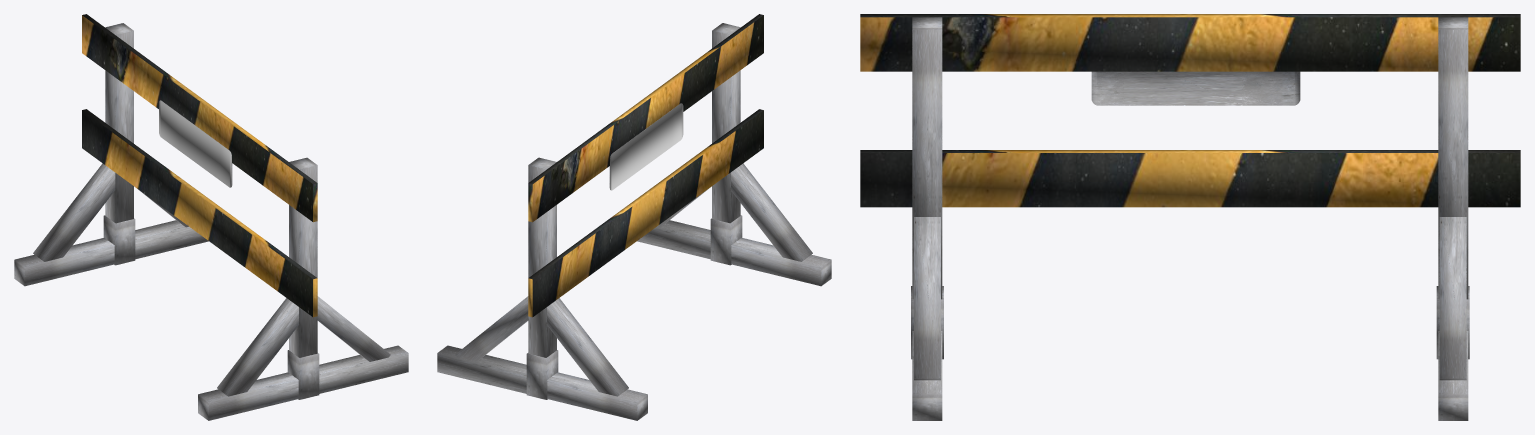
File: Wooden Barrier Left.fbx
3 views of the same model, side by side, from view 1: azimuth 30°, elevation 25°; view 2: azimuth 150°, elevation 25°; view 3: azimuth 270°, elevation 25° (orthographic). The views are drawn at different scales.
Visible parts, largest first — view 1: Wooden_Barrier; view 2: Wooden_Barrier; view 3: Wooden_Barrier.
Part boxes in pixels (box(x1,y1,x2,y2)): Wooden_Barrier: box(14, 14, 408, 420); Wooden_Barrier: box(437, 14, 831, 420); Wooden_Barrier: box(860, 14, 1520, 420).
Bounding box in the file's own units: 112 × 123 × 224.
